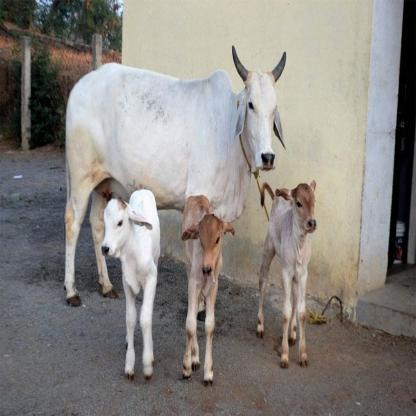cow: (63, 43, 287, 322), (100, 189, 160, 383), (257, 178, 317, 370), (181, 194, 235, 388)
